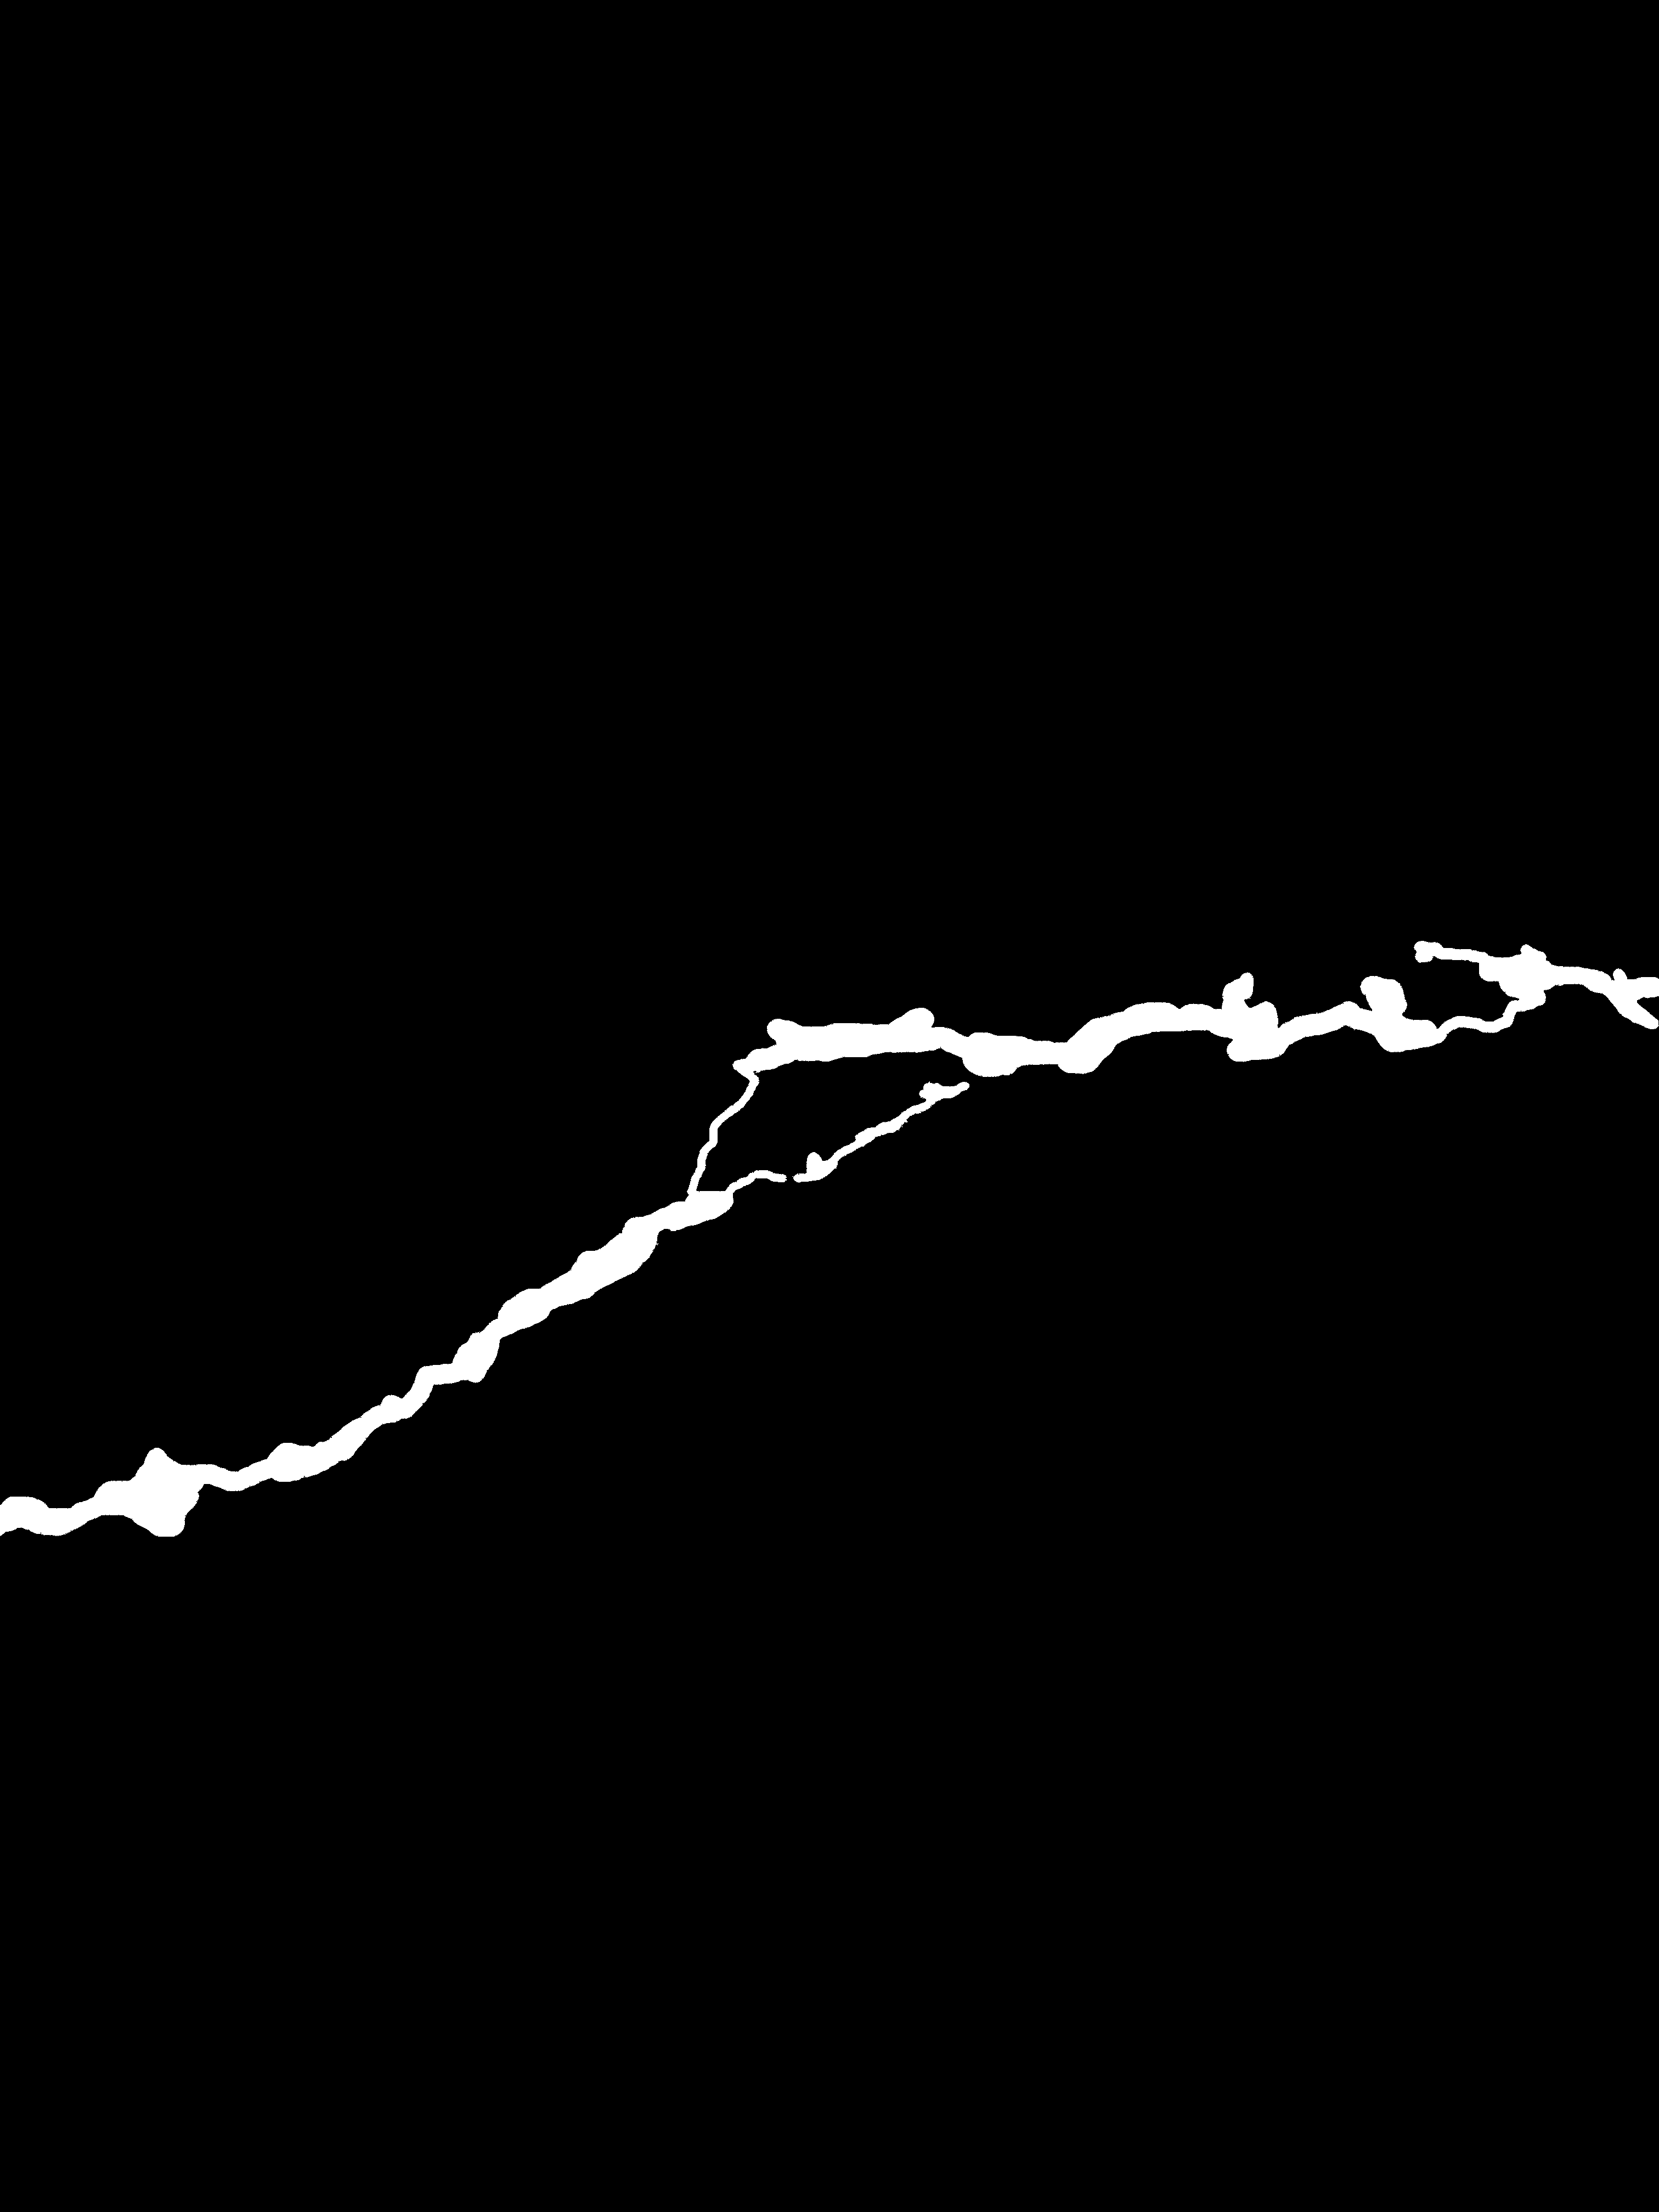Crack: (0, 916, 1659, 1566)
